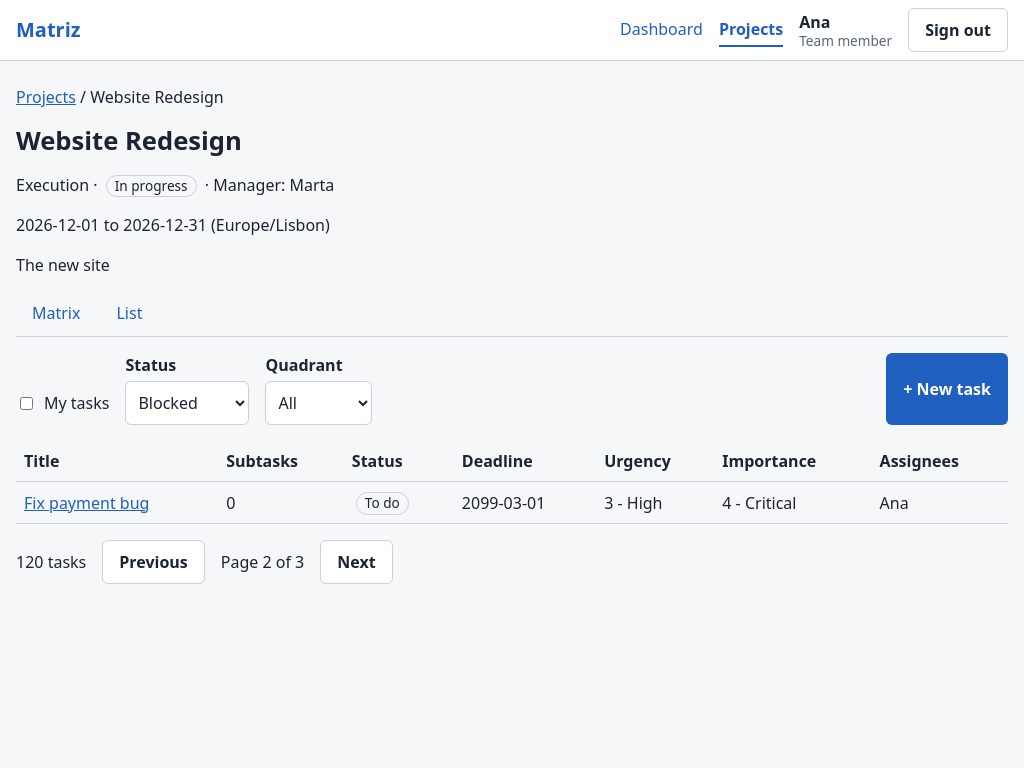
it: the project and its tasks (F02, F04, F05, F22) › drops the filters of the List when going to the Matrix, and starts again from the first page when a filter changes
The image size is (1024, 768).
Check: the link "Fix payment bug" is shown, box [24,492,149,514]
Check: the text "Page 2 of 3" is shown, box [221,550,304,574]
Select "Later" in the dropdown labelled "Quadrant" at (319, 403), box [266,381,372,425]
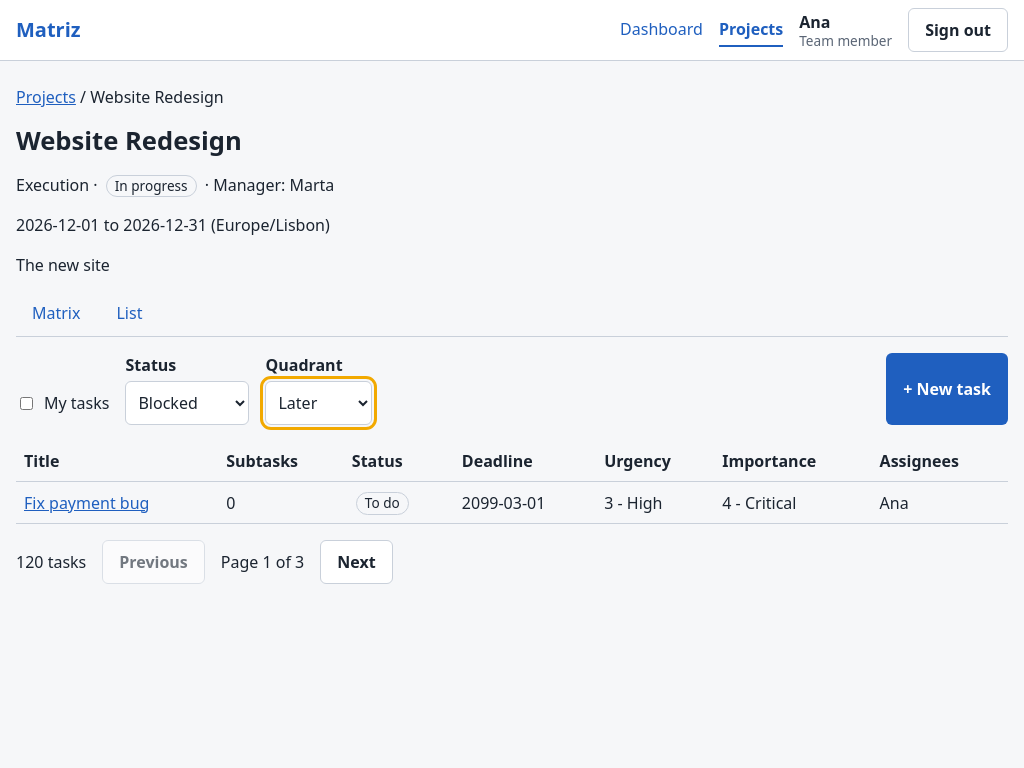
Check: the text "Page 1 of 3" is shown, box [221,550,304,574]
Click the link "Matrix" at (56, 313), box [32,302,80,324]
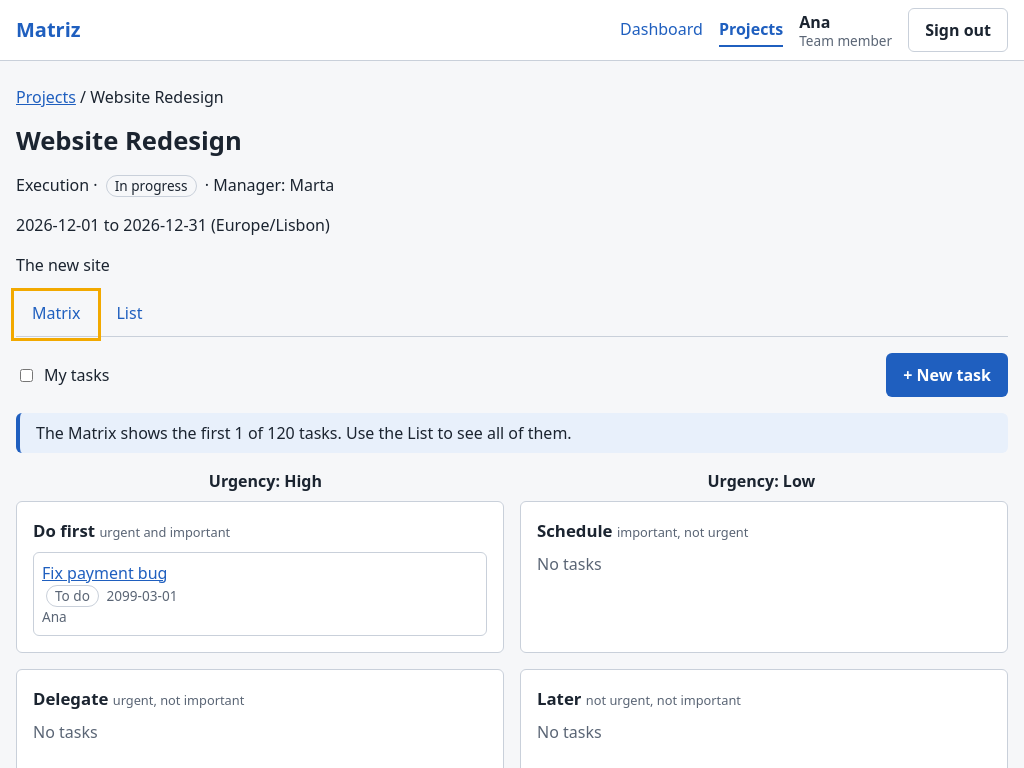
Check: the element "Do first" is shown, box [16,501,504,653]
Click the link "List" at (130, 313), box [116,302,142,324]
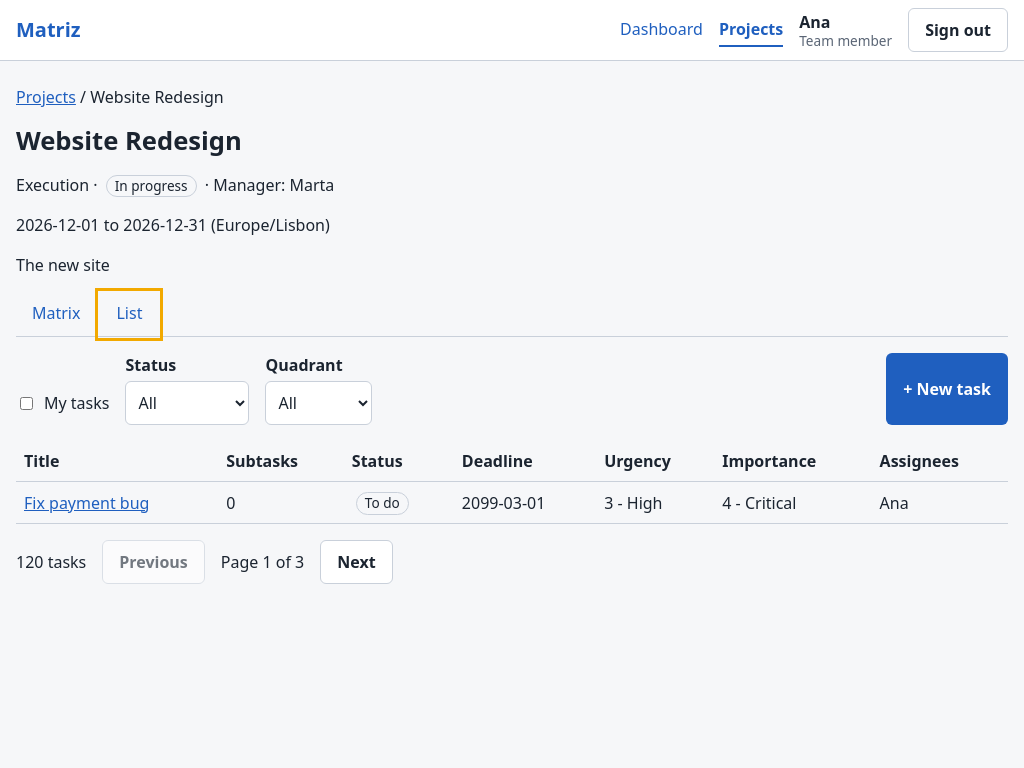
Check: the text "Page 1 of 3" is shown, box [221,550,304,574]
Check: the dropdown labelled "Status" shows "All", box [126,381,250,425]
Check: the dropdown labelled "Quadrant" shows "All", box [266,381,372,425]
